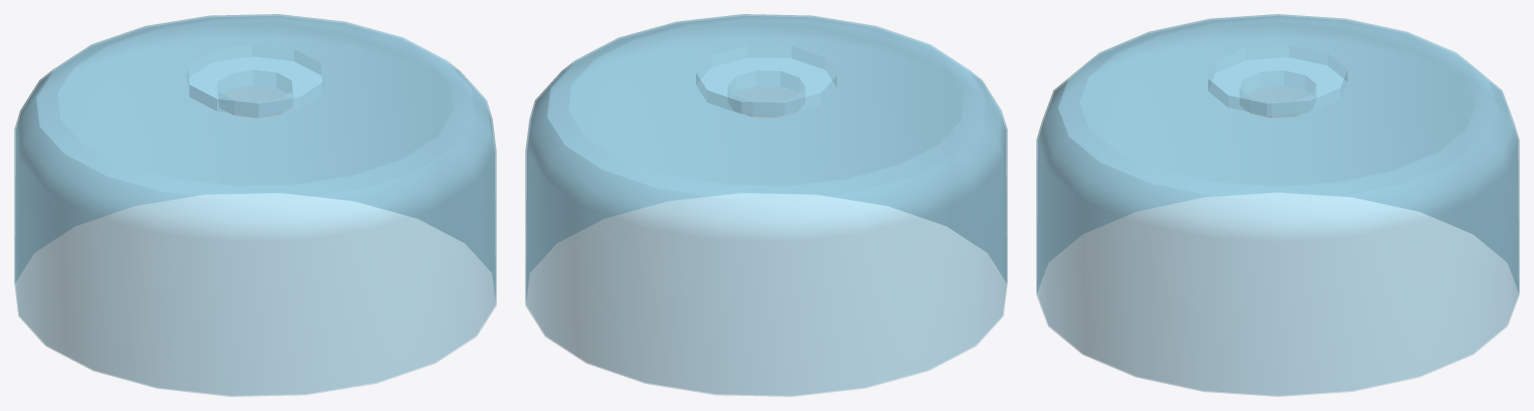
Rendered from PW_cup03V2.fbx.
3 renders of one model, left to right at view 1: azimuth 30°, elevation 25°; view 2: azimuth 150°, elevation 25°; view 3: azimuth 270°, elevation 25°, orthographic.
Visible parts, largest first — view 1: glass; view 2: glass; view 3: glass.
Boxes of the visible parts, x1=… form: glass: x1=14, y1=14, x2=496, y2=396; glass: x1=525, y1=14, x2=1007, y2=396; glass: x1=1036, y1=14, x2=1519, y2=396.
Size of the model in its own units: 46.66 by 23.48 by 46.66.
